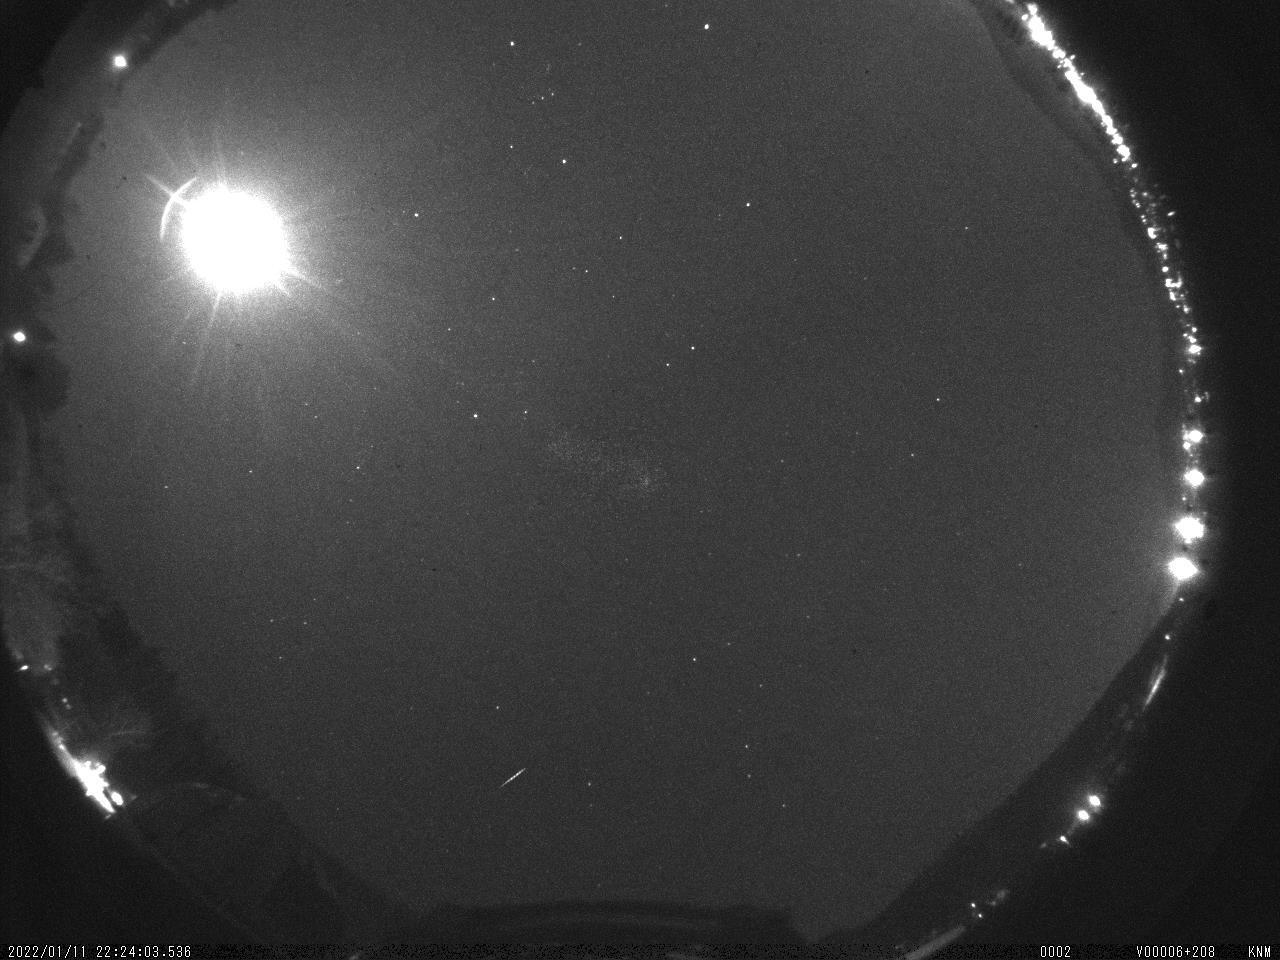Meteor: (495, 762, 530, 793)
